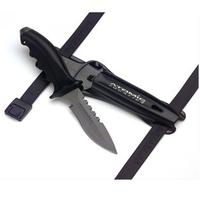knife: (15, 21, 120, 160)
